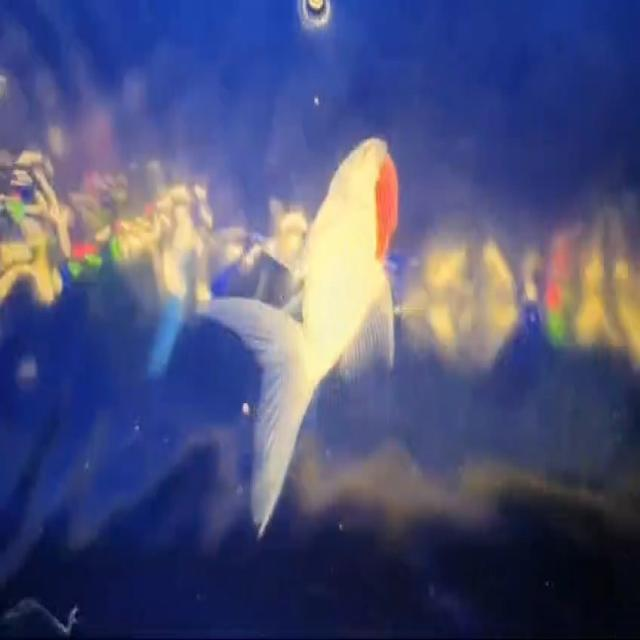fish: (204, 137, 410, 544)
